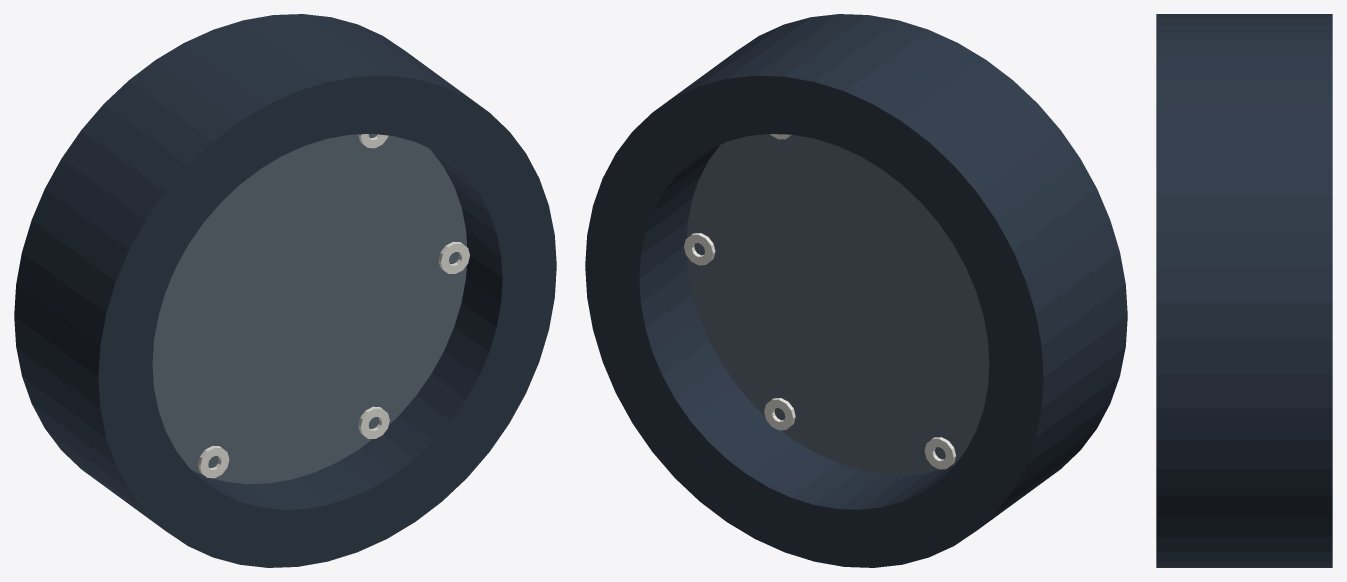
Rendered from restrict_gate.glb.
The picture shows the model from 3 angles, left to right: view 1: azimuth 30°, elevation 25°; view 2: azimuth 150°, elevation 25°; view 3: azimuth 270°, elevation 25°; orthographic projection. The views are drawn at different scales.
Parts seen in each view (by area): view 1: restrict_gate__frame, restrict_gate__blade_06, restrict_gate__blade_01, restrict_gate__blade_05, restrict_gate__blade_02, restrict_gate__blade_04, restrict_gate__blade_03, restrict_gate__hinge__05, restrict_gate__hinge__06, restrict_gate__hinge; view 2: restrict_gate__frame, restrict_gate__blade_06, restrict_gate__blade_01, restrict_gate__blade_05, restrict_gate__blade_02, restrict_gate__blade_04, restrict_gate__blade_03, restrict_gate__hinge__05, restrict_gate__hinge__06, restrict_gate__hinge; view 3: restrict_gate__frame.
Part boxes in pixels (x1,y1,x2,y2): restrict_gate__frame: [14, 14, 556, 567]; restrict_gate__blade_06: [292, 296, 443, 478]; restrict_gate__blade_01: [293, 168, 467, 350]; restrict_gate__blade_05: [158, 296, 292, 484]; restrict_gate__blade_02: [292, 134, 443, 295]; restrict_gate__blade_04: [152, 256, 292, 409]; restrict_gate__blade_03: [182, 151, 292, 295]; restrict_gate__hinge__05: [198, 446, 229, 478]; restrict_gate__hinge__06: [358, 406, 389, 438]; restrict_gate__hinge: [438, 241, 469, 273]; restrict_gate__frame: [585, 14, 1127, 567]; restrict_gate__blade_06: [710, 287, 861, 470]; restrict_gate__blade_01: [686, 159, 860, 341]; restrict_gate__blade_05: [861, 287, 986, 475]; restrict_gate__blade_02: [710, 134, 861, 286]; restrict_gate__blade_04: [862, 252, 989, 393]; restrict_gate__blade_03: [861, 157, 957, 287]; restrict_gate__hinge__05: [924, 437, 955, 469]; restrict_gate__hinge__06: [764, 398, 795, 430]; restrict_gate__hinge: [684, 233, 715, 265]; restrict_gate__frame: [1156, 14, 1332, 567].
Size of the model in its own units: 1.1 by 1.1 by 0.35.
